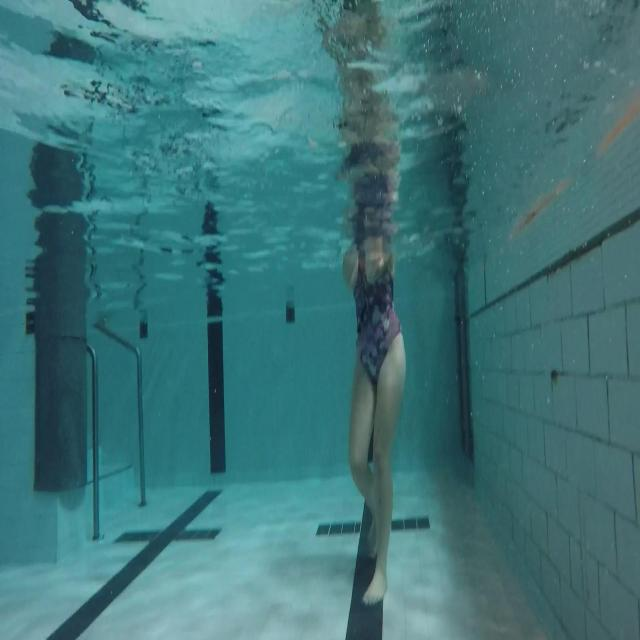human: (321, 1, 407, 607)
